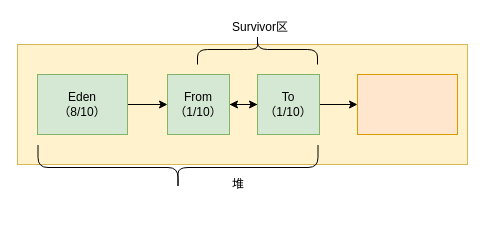
This 485x231 diagram has some shape labels left out. The centre of each missing label's shape, as x and y in pixels:
"年轻代" belongs at point (177, 167).
"老年代" belongs at point (407, 104).
